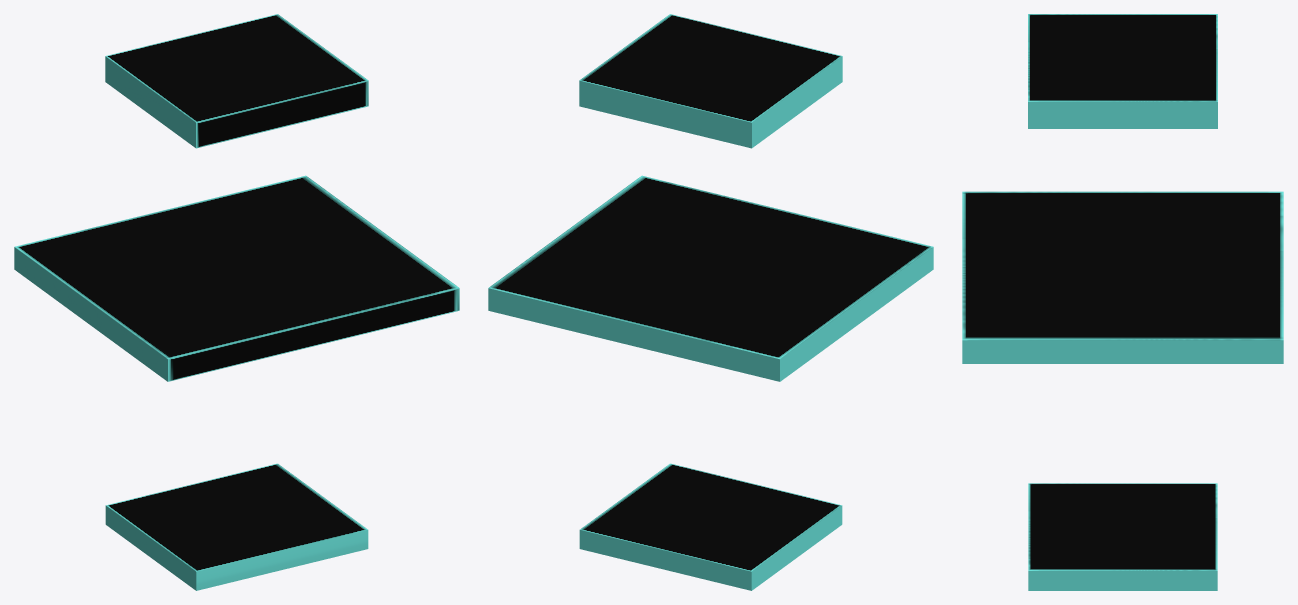
The model's file is CH_Model_Head.fbx.
3 renders of one model, left to right at view 1: azimuth 30°, elevation 25°; view 2: azimuth 150°, elevation 25°; view 3: azimuth 270°, elevation 25°, orthographic. The views are drawn at different scales.
Parts seen in each view (by area): view 1: CH_Head_Mesh; view 2: CH_Head_Mesh; view 3: CH_Head_Mesh.
Boxes of the visible parts, x1,y1,x2,y2 form: CH_Head_Mesh: (14,14,459,590); CH_Head_Mesh: (488,14,933,590); CH_Head_Mesh: (962,14,1283,590).
Size of the model in its own units: 0.7537 by 1.16 by 0.6875.
